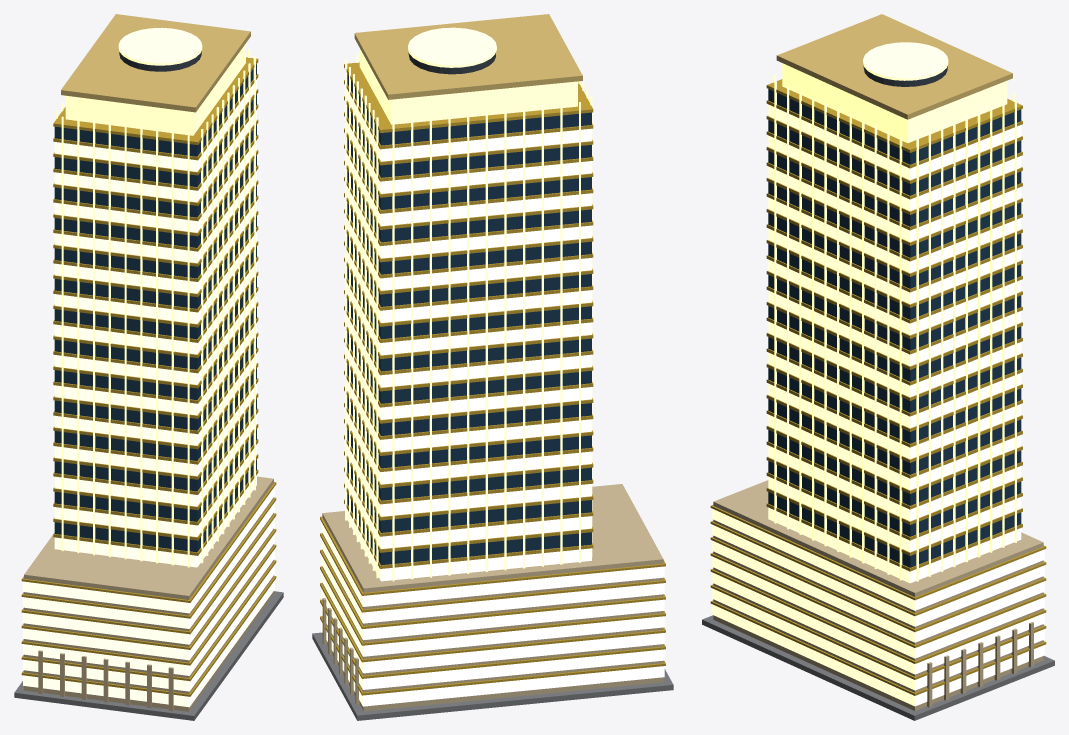
Rendered from times_square_nguyen_hue.glb.
The picture shows the model from 3 angles, left to right: view 1: azimuth 30°, elevation 25°; view 2: azimuth 150°, elevation 25°; view 3: azimuth 270°, elevation 25°; orthographic projection. The views are drawn at different scales.
Parts seen in each view (by area): view 1: times_square_nguyen_hue; view 2: times_square_nguyen_hue; view 3: times_square_nguyen_hue.
Boxes of the visible parts, x1,y1,x2,y2 form: times_square_nguyen_hue: (14,14,283,720); times_square_nguyen_hue: (312,14,673,720); times_square_nguyen_hue: (702,14,1054,720).
Size of the model in its own units: 89.78 by 165 by 88.3.
